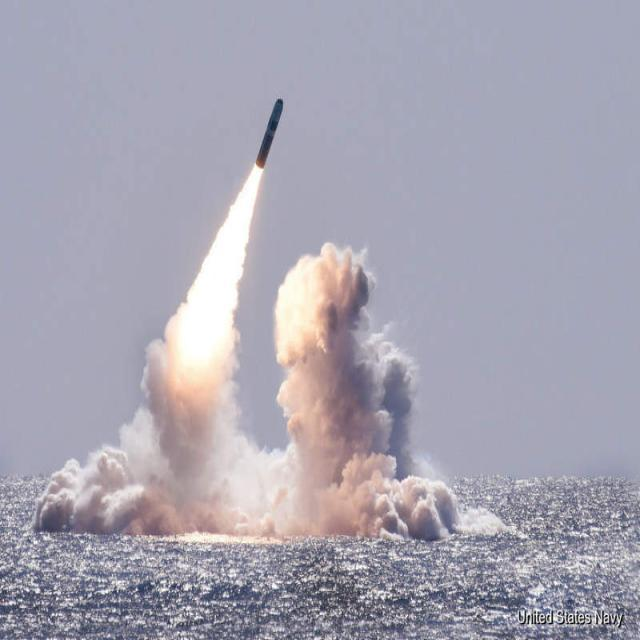missile: (253, 93, 285, 171)
